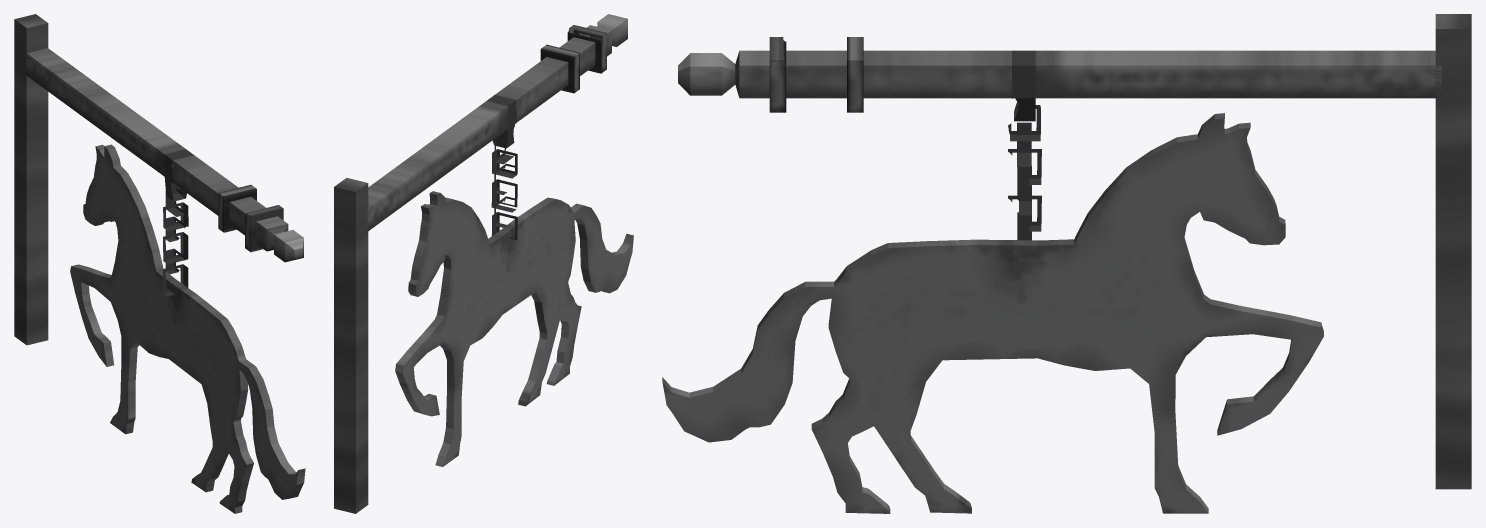
Rendered from Sign_361x7.obj.
3 renders of one model, left to right at view 1: azimuth 30°, elevation 25°; view 2: azimuth 150°, elevation 25°; view 3: azimuth 270°, elevation 25°, orthographic. The views are drawn at different scales.
Visible parts, largest first — view 1: Sign_361x7; view 2: Sign_361x7; view 3: Sign_361x7.
Boxes of the visible parts, bbox=[...] form: Sign_361x7: bbox=[14, 14, 305, 513]; Sign_361x7: bbox=[334, 14, 633, 513]; Sign_361x7: bbox=[662, 14, 1471, 513].
Size of the model in its own units: 0.1145 by 1.13 by 1.68.
